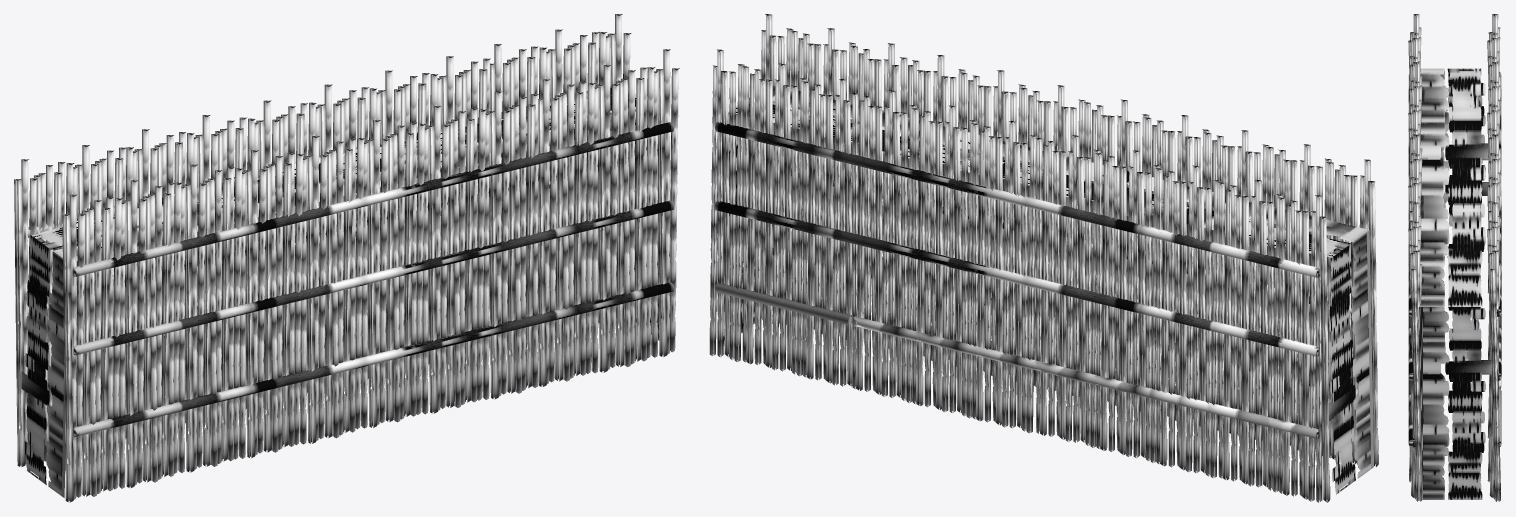
The model's file is wall_long.dae.
The picture shows the model from 3 angles, left to right: view 1: azimuth 30°, elevation 25°; view 2: azimuth 150°, elevation 25°; view 3: azimuth 270°, elevation 25°; orthographic projection. The views are drawn at different scales.
Visible parts, largest first — view 1: wall_long; view 2: wall_long; view 3: wall_long.
Part boxes in pixels (x1,y1,x2,y2): wall_long: [14, 14, 679, 502]; wall_long: [709, 14, 1378, 502]; wall_long: [1408, 14, 1501, 501].
Bounding box in the file's own units: 35.11 × 5.66 × 16.6.
Materials: 1 (1 with a texture image).
